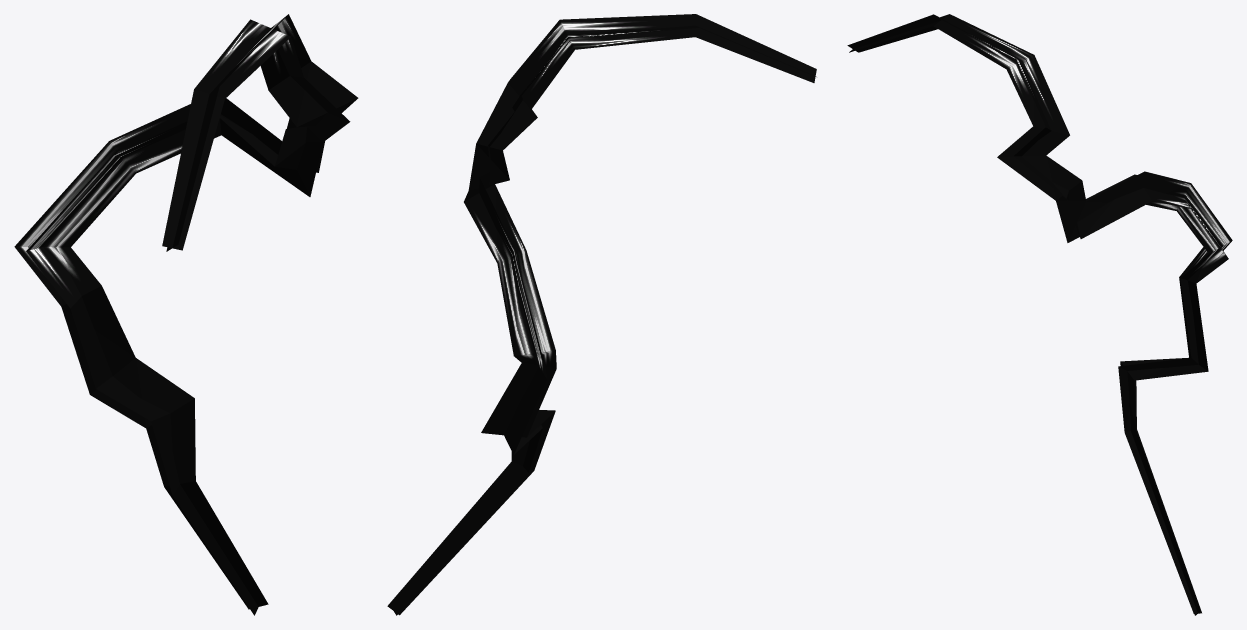
The model's file is LightningB03.fbx.
3 renders of one model, left to right at view 1: azimuth 30°, elevation 25°; view 2: azimuth 150°, elevation 25°; view 3: azimuth 270°, elevation 25°, orthographic. The views are drawn at different scales.
Visible parts, largest first — view 1: SM_EFF_Lightning_B_03.mo; view 2: SM_EFF_Lightning_B_03.mo; view 3: SM_EFF_Lightning_B_03.mo.
Boxes of the visible parts, box(x1,y1,x2,y2) form: SM_EFF_Lightning_B_03.mo: box(14, 14, 358, 615); SM_EFF_Lightning_B_03.mo: box(387, 14, 816, 615); SM_EFF_Lightning_B_03.mo: box(847, 14, 1232, 615).
Bounding box in the file's own units: 138 × 281 × 186.
